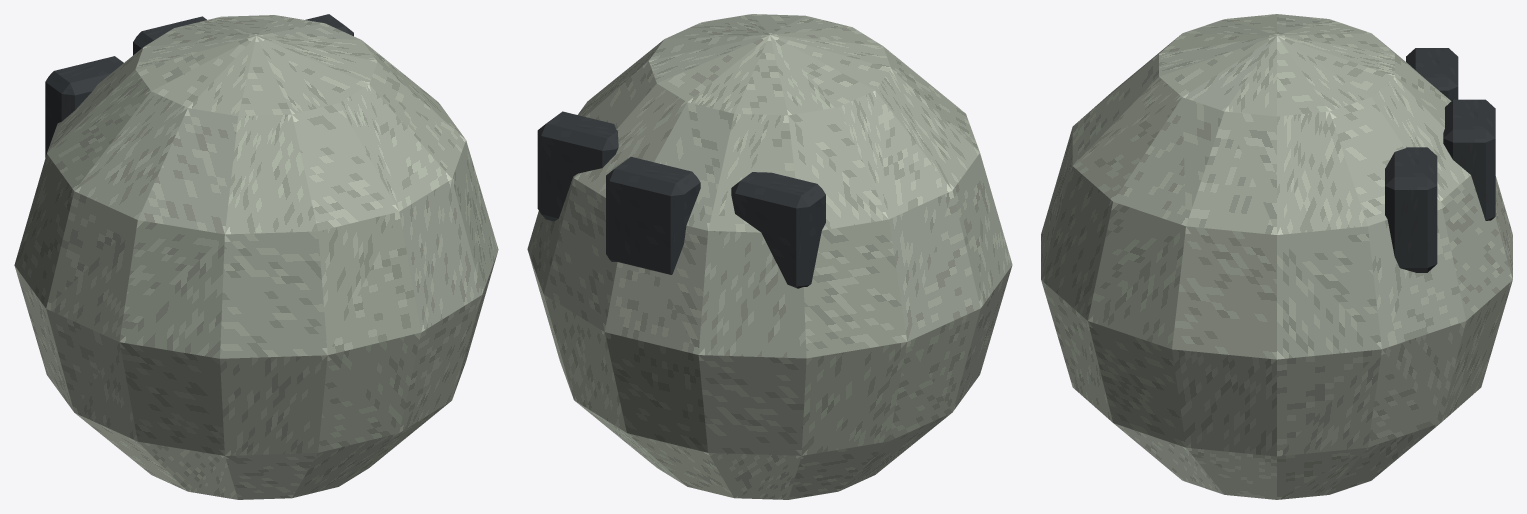
File: yrax_sensor.glb
3 views of the same model, side by side, from view 1: azimuth 30°, elevation 25°; view 2: azimuth 150°, elevation 25°; view 3: azimuth 270°, elevation 25° (orthographic).
Visible parts, largest first — view 1: block_engraved sensor sphere, block_black glass screen (×2); view 2: block_engraved sensor sphere, block_black glass screen (×3); view 3: block_engraved sensor sphere, block_black glass screen (×3).
Boxes of the visible parts, left/top/right/bottom form: block_engraved sensor sphere: left=14, top=15, right=498, bottom=499; block_black glass screen (×2): left=45, top=16, right=206, bottom=157; block_engraved sensor sphere: left=527, top=14, right=1012, bottom=499; block_black glass screen (×3): left=537, top=111, right=825, bottom=288; block_engraved sensor sphere: left=1041, top=14, right=1512, bottom=499; block_black glass screen (×3): left=1385, top=48, right=1495, bottom=272.
Size of the model in its own units: 0.2392 by 0.2406 by 0.2325.
Materials: 2 (2 with a texture image).
